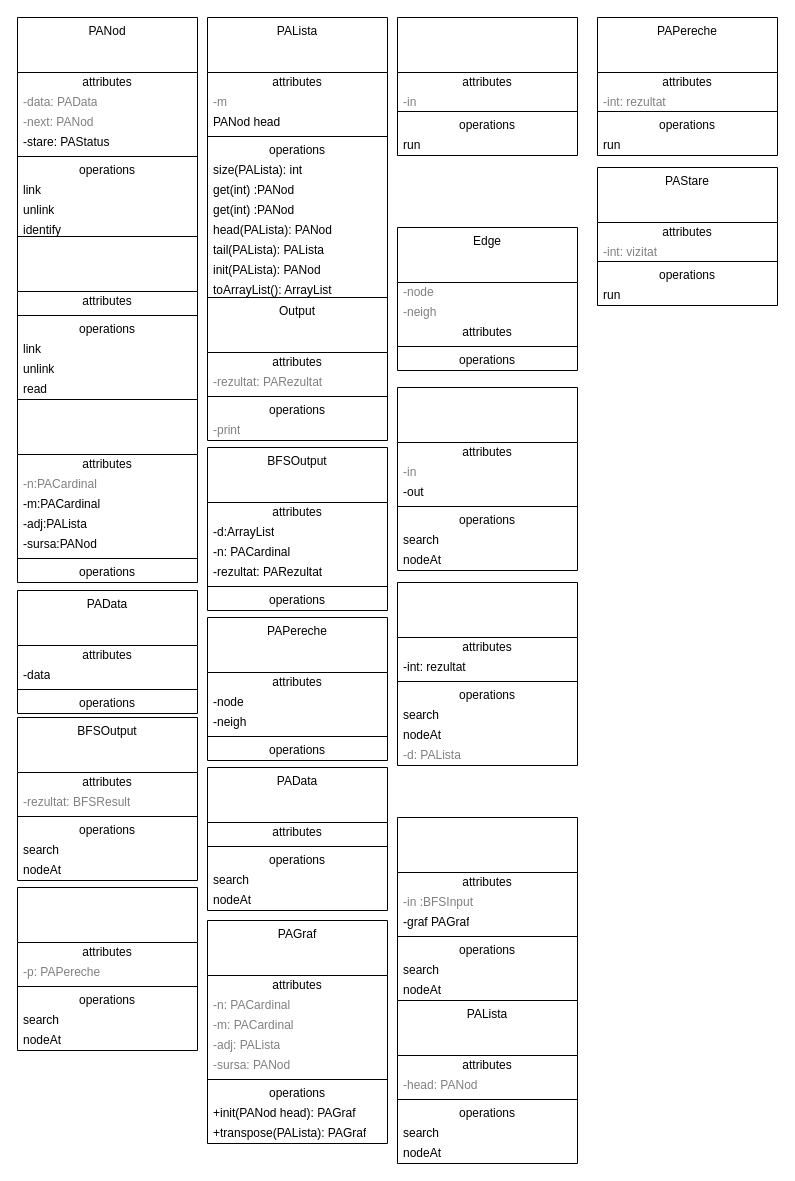
This 795x1181 diagram has some shape labels left out. Each missing label, with the box of its shape:
Algorithm: (396, 16, 578, 156)
BFSAlgorithm: (396, 816, 578, 1000)
BFSInput: (16, 398, 198, 582)
BFSResult: (396, 582, 578, 766)
Graph: (396, 386, 578, 570)
Input: (16, 236, 198, 400)
PAMuchie: (16, 886, 198, 1050)
